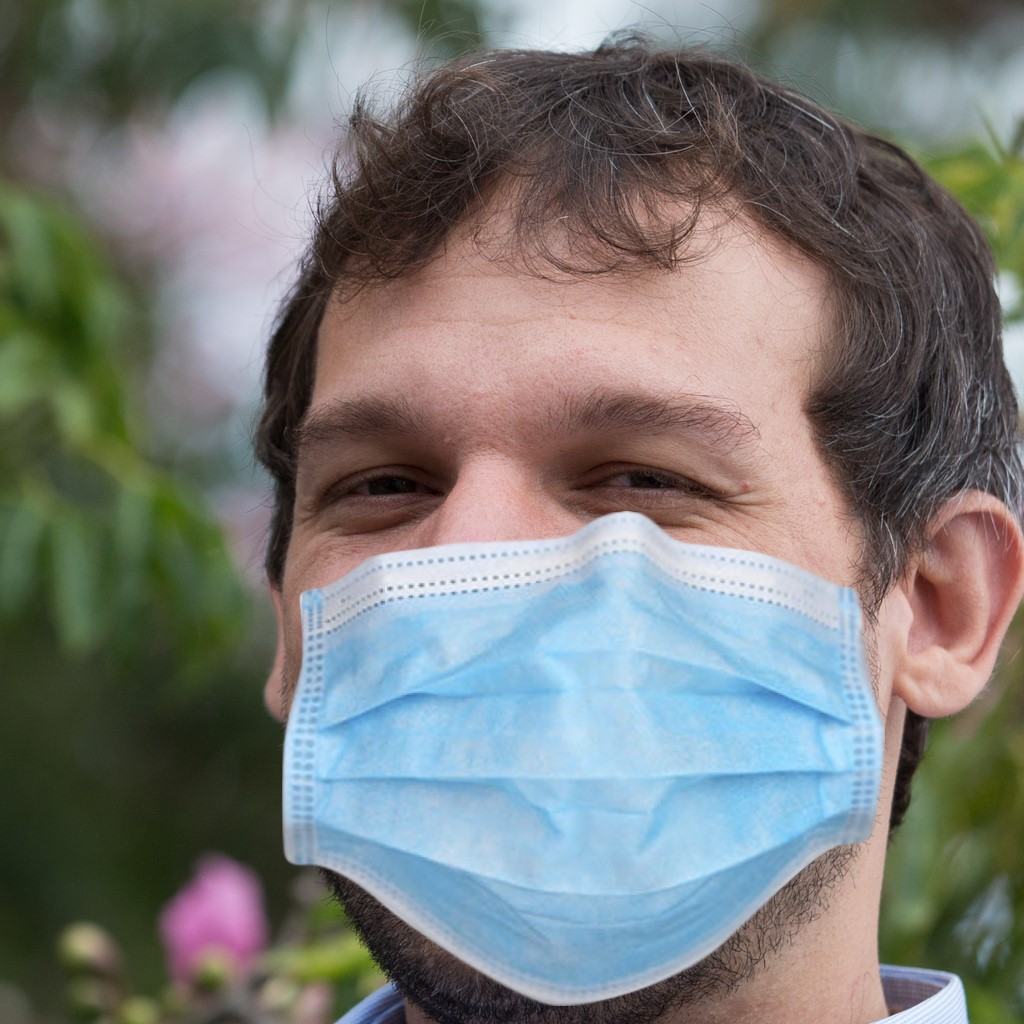con_mascara: (282, 172, 879, 980)
